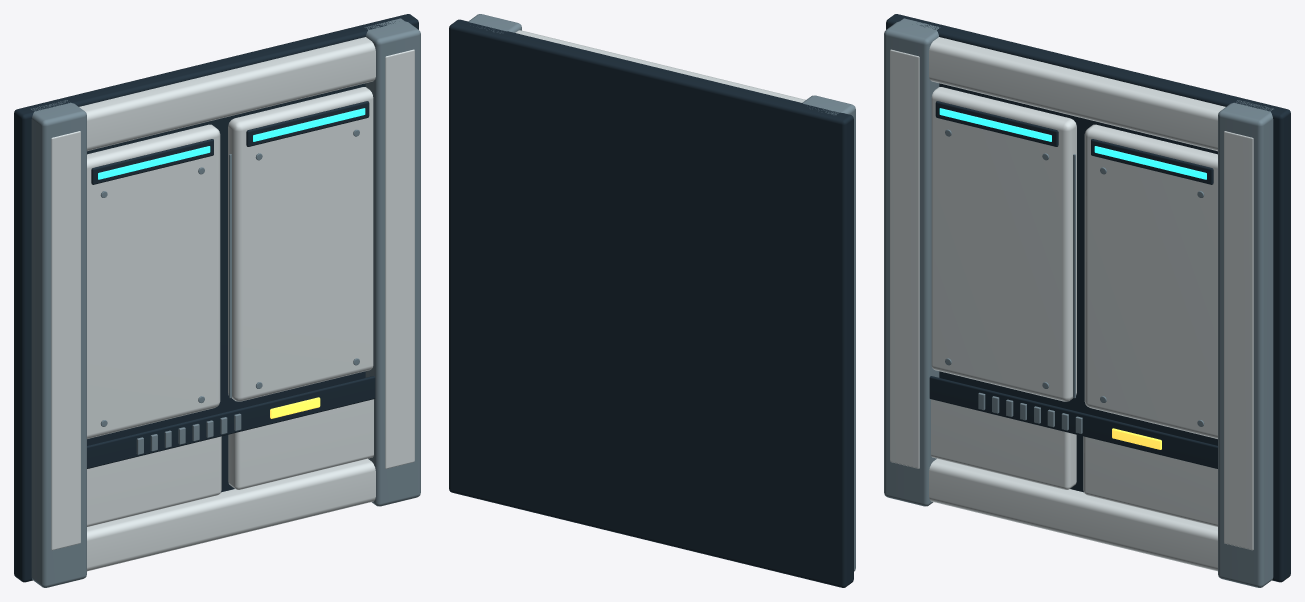
Rendered from WallModule.fbx.
3 views of the same model, side by side, from view 1: azimuth 30°, elevation 25°; view 2: azimuth 150°, elevation 25°; view 3: azimuth 330°, elevation 25° (orthographic).
Parts seen in each view (by area): view 1: Main ceramic panel.001, Main ceramic panel, Back structure, Side structural column, Cross frame.001, Cross frame, Column ceramic facing.001, Column ceramic facing, Side structural column.001, Lower panel.001, Lower panel, Service recess (+6 smaller); view 2: Back structure, Side structural column, Cross frame.001, Side structural column.001; view 3: Main ceramic panel, Main ceramic panel.001, Back structure, Side structural column.001, Cross frame.001, Cross frame, Column ceramic facing, Column ceramic facing.001, Side structural column, Lower panel, Lower panel.001, Service recess (+6 smaller).
Boxes of the visible parts, x1,y1,x2,y2 form: Main ceramic panel.001: [228, 87, 373, 401]; Main ceramic panel: [87, 124, 220, 438]; Back structure: [14, 14, 418, 582]; Side structural column: [31, 100, 86, 587]; Cross frame.001: [79, 37, 375, 151]; Cross frame: [87, 458, 375, 571]; Column ceramic facing.001: [385, 49, 414, 468]; Column ceramic facing: [51, 131, 80, 550]; Side structural column.001: [364, 18, 420, 506]; Lower panel.001: [228, 399, 373, 489]; Lower panel: [87, 436, 221, 526]; Service recess: [87, 376, 375, 468]; Back structure: [449, 19, 853, 587]; Side structural column: [802, 95, 855, 571]; Cross frame.001: [515, 30, 805, 102]; Side structural column.001: [468, 14, 521, 33]; Main ceramic panel: [931, 87, 1076, 401]; Main ceramic panel.001: [1084, 124, 1217, 438]; Back structure: [886, 14, 1290, 582]; Side structural column.001: [1218, 100, 1273, 587]; Cross frame.001: [929, 37, 1225, 151]; Cross frame: [929, 458, 1217, 571]; Column ceramic facing: [890, 49, 919, 468]; Column ceramic facing.001: [1224, 131, 1253, 550]; Side structural column: [884, 18, 940, 506]; Lower panel: [931, 399, 1076, 489]; Lower panel.001: [1083, 436, 1217, 526]; Service recess: [929, 376, 1217, 468].
Bounding box in the file's own units: 4 × 4.5 × 0.3875.
